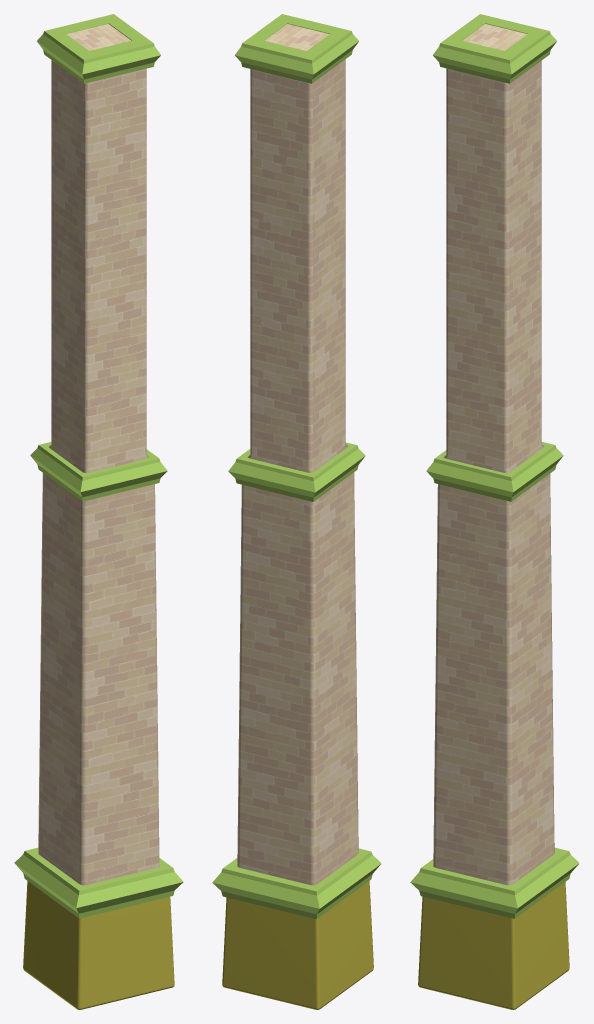
Rendered from SM_pillar_module_02.fbx.
3 renders of one model, left to right at view 1: azimuth 30°, elevation 25°; view 2: azimuth 150°, elevation 25°; view 3: azimuth 330°, elevation 25°, orthographic.
Visible parts, largest first — view 1: Box446; view 2: Box446; view 3: Box446.
Part boxes in pixels (x1,y1,x2,y2): Box446: [14, 14, 183, 1009]; Box446: [212, 14, 381, 1009]; Box446: [410, 14, 579, 1009].
Bounding box in the file's own units: 48.46 × 406 × 48.41.
